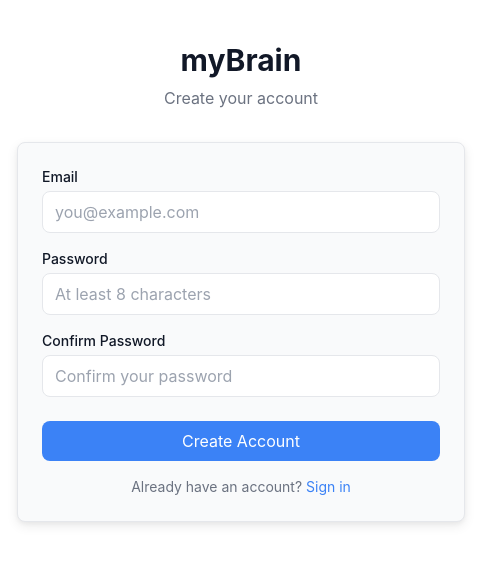
Test case: SignupPage › Client-Side Validation › shows error when password is empty
Type "test@example.com" into the field labelled "Email" at (241, 212), box [42, 191, 440, 233]
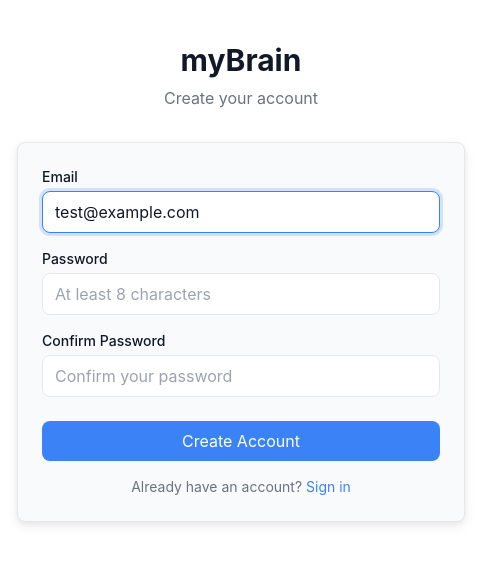
Type "password123" into the password field labelled "Confirm Password" at (241, 376), box [42, 355, 440, 397]
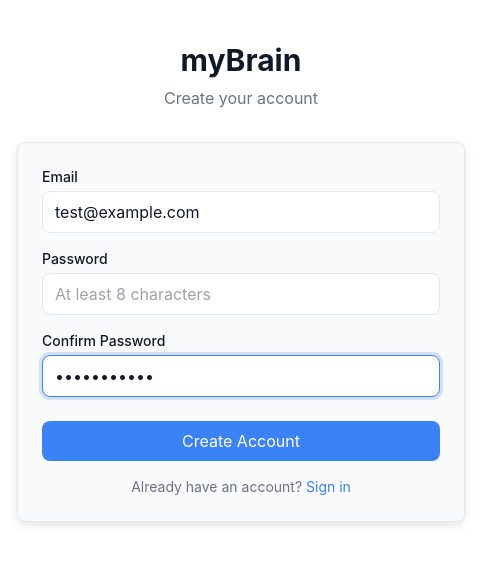
Click the button "Create Account" at (241, 441), box [42, 421, 440, 461]
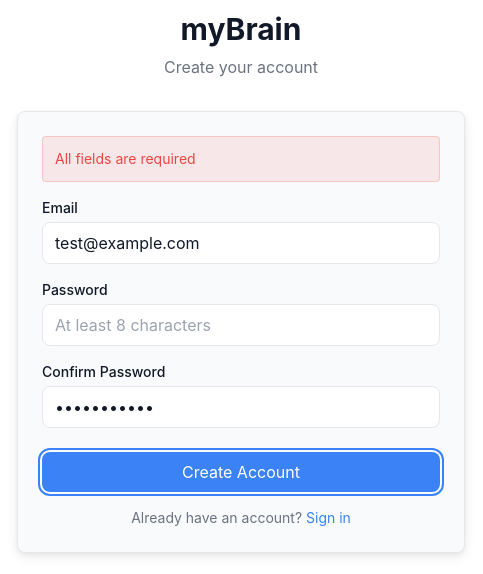
Expected: the text "All fields are required" is shown, [42, 136, 440, 182]
